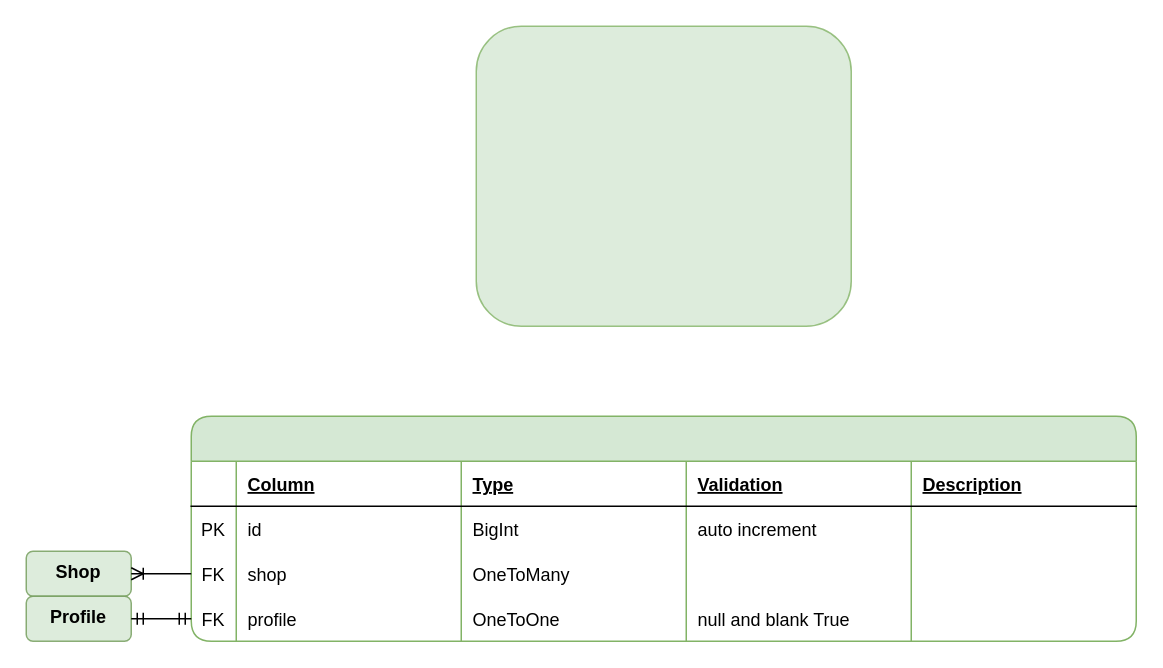
Image size: 1163x668. Some labels were removed from this diagram. Here are the shapes that lost their labels. From the top down, the box of each, then its label:
(475, 25, 851, 326): sellers/ │ ├── models.py │ └── Seller
(190, 415, 1136, 641): Seller
